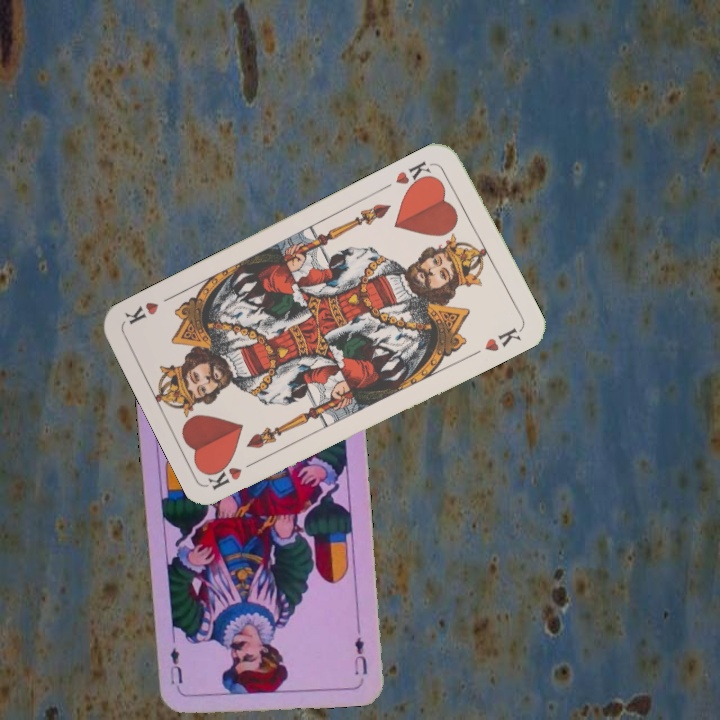EU: (350, 633, 370, 678)
HK: (205, 455, 262, 493), (391, 157, 437, 193)
